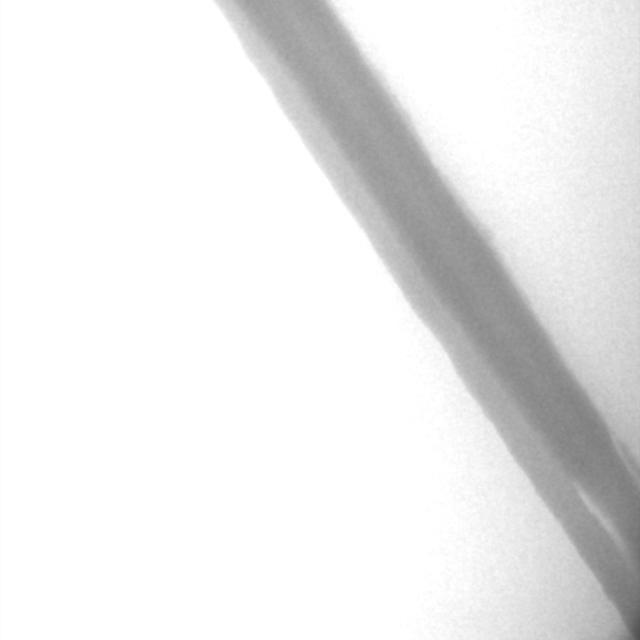unfused: (573, 444, 638, 545)
